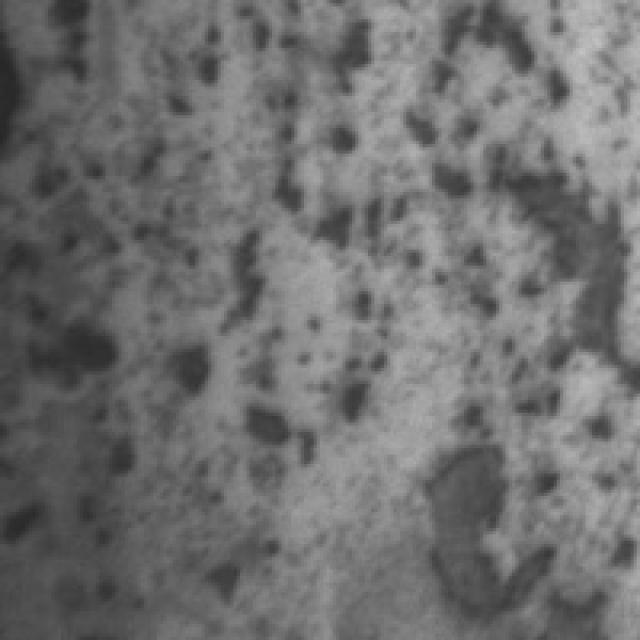patches: (419, 432, 560, 630), (512, 157, 637, 368)
pitted_surface: (3, 0, 579, 406), (6, 220, 397, 602)
